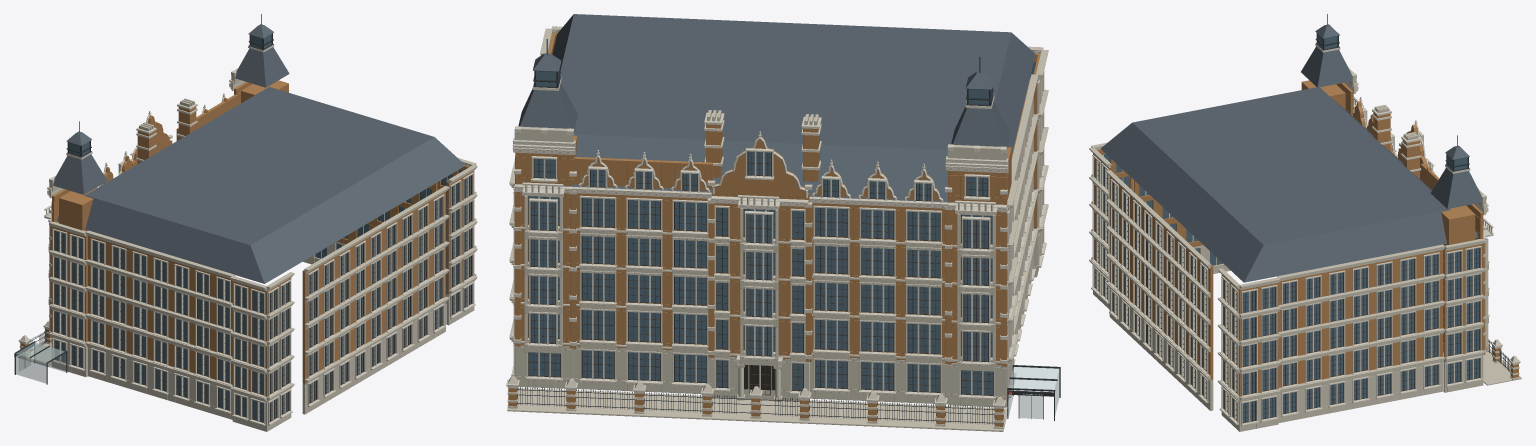
File: sal-exterior-669327f0001e.glb
The picture shows the model from 3 angles, left to right: view 1: azimuth 30°, elevation 25°; view 2: azimuth 150°, elevation 25°; view 3: azimuth 270°, elevation 25°; orthographic projection. The views are drawn at different scales.
Visible parts, largest first — view 1: SAL.001; view 2: SAL.001; view 3: SAL.001.
Part boxes in pixels (x1,y1,x2,y2): SAL.001: [14, 14, 477, 431]; SAL.001: [506, 14, 1060, 431]; SAL.001: [1089, 14, 1521, 431].
Size of the model in its own units: 68.1 by 38.24 by 61.14.
